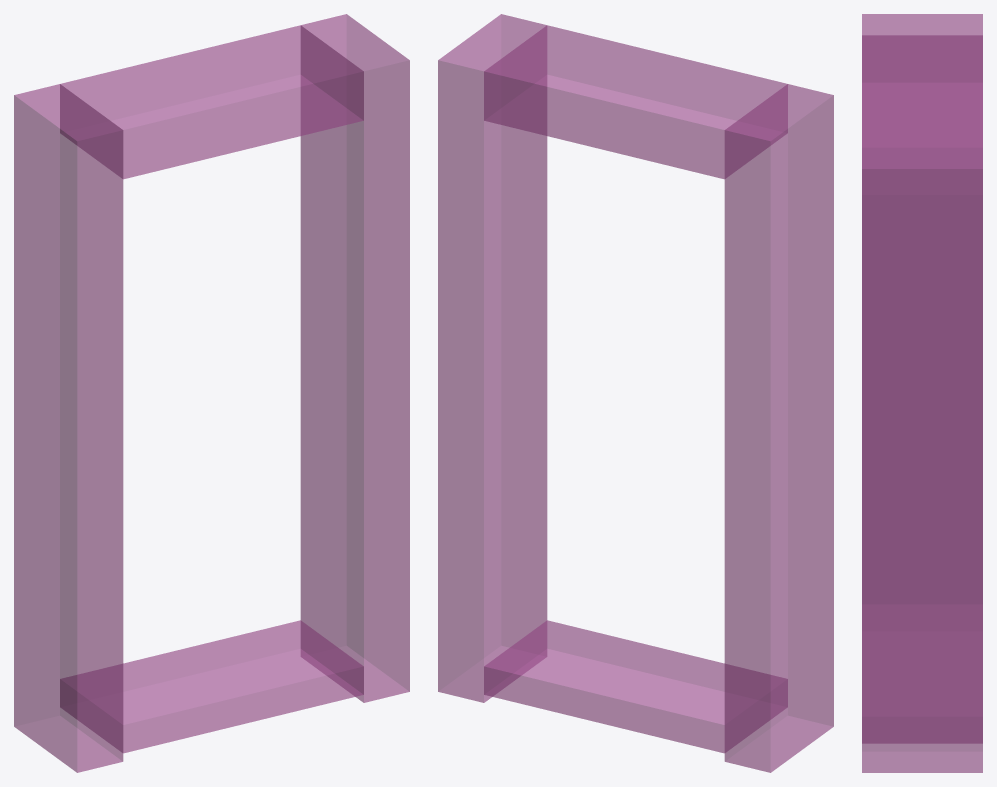
The model's file is SM_Bld_Door_Single_Large_01_Collision.fbx.
3 renders of one model, left to right at view 1: azimuth 30°, elevation 25°; view 2: azimuth 150°, elevation 25°; view 3: azimuth 270°, elevation 25°, orthographic. The views are drawn at different scales.
Parts seen in each view (by area): view 1: SM_Bld_Door_Single_Large_01_Collision; view 2: SM_Bld_Door_Single_Large_01_Collision; view 3: SM_Bld_Door_Single_Large_01_Collision.
Boxes of the visible parts, box(x1,y1,x2,y2) form: SM_Bld_Door_Single_Large_01_Collision: box(14, 14, 409, 772); SM_Bld_Door_Single_Large_01_Collision: box(438, 14, 833, 772); SM_Bld_Door_Single_Large_01_Collision: box(862, 14, 982, 772).
Size of the model in its own units: 152 by 276 by 50.08.
